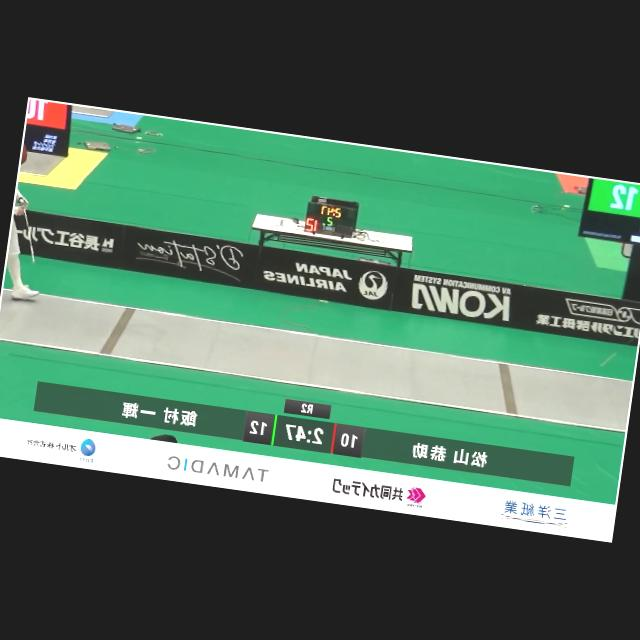blade: (10, 194, 49, 267), (591, 323, 639, 374)
